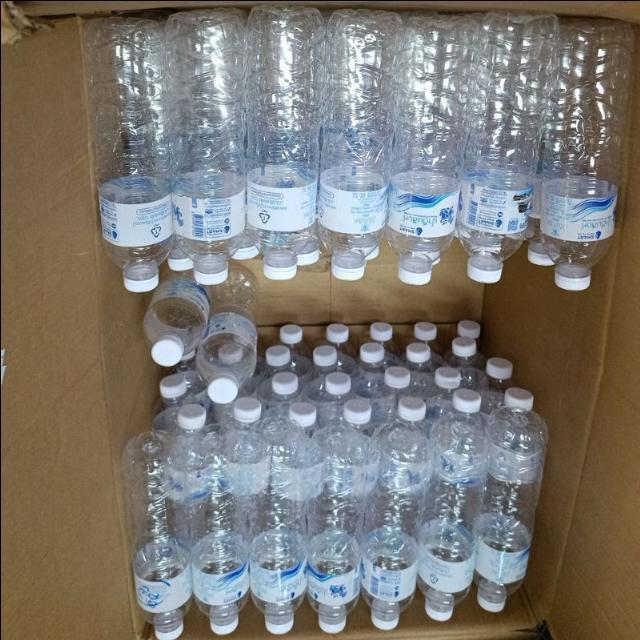PET Bottle: (120, 300, 542, 433), (156, 0, 258, 296), (64, 7, 167, 284), (387, 0, 481, 299), (462, 0, 551, 278), (549, 12, 640, 282), (247, 10, 326, 294), (320, 0, 391, 287), (103, 432, 193, 638), (164, 395, 242, 631), (303, 411, 378, 640), (492, 398, 568, 609), (234, 420, 300, 640), (366, 422, 426, 636), (426, 410, 480, 624)
